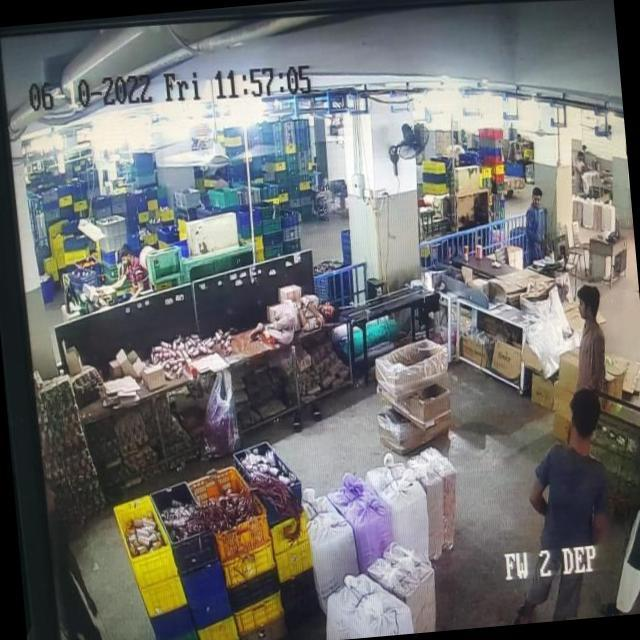person: (510, 388, 622, 622), (568, 280, 610, 399), (520, 182, 552, 263), (118, 240, 152, 300)
